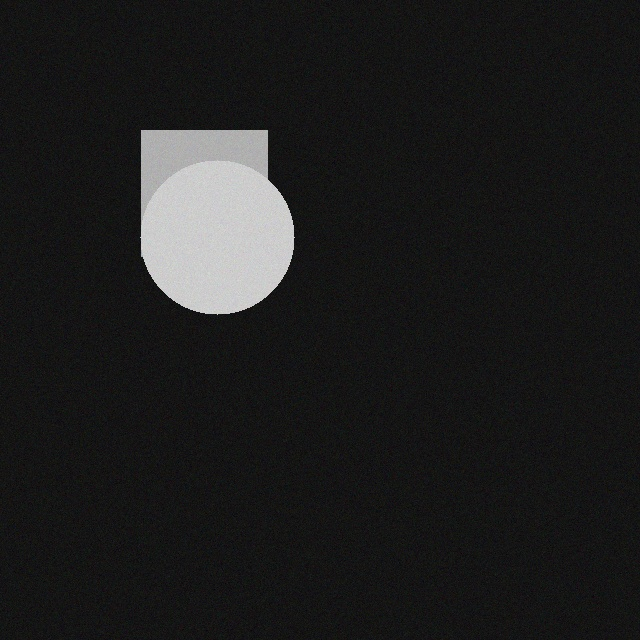circle: (155, 150, 309, 304)
square: (156, 120, 282, 246)
